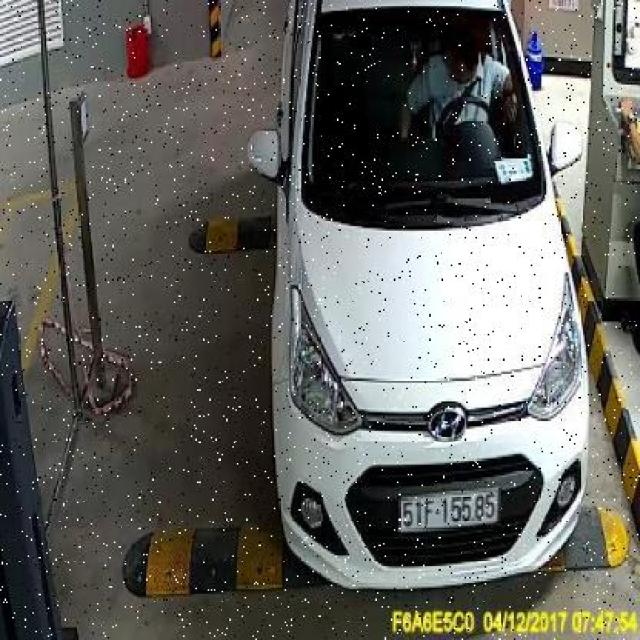number_plate: (392, 485, 502, 530)
